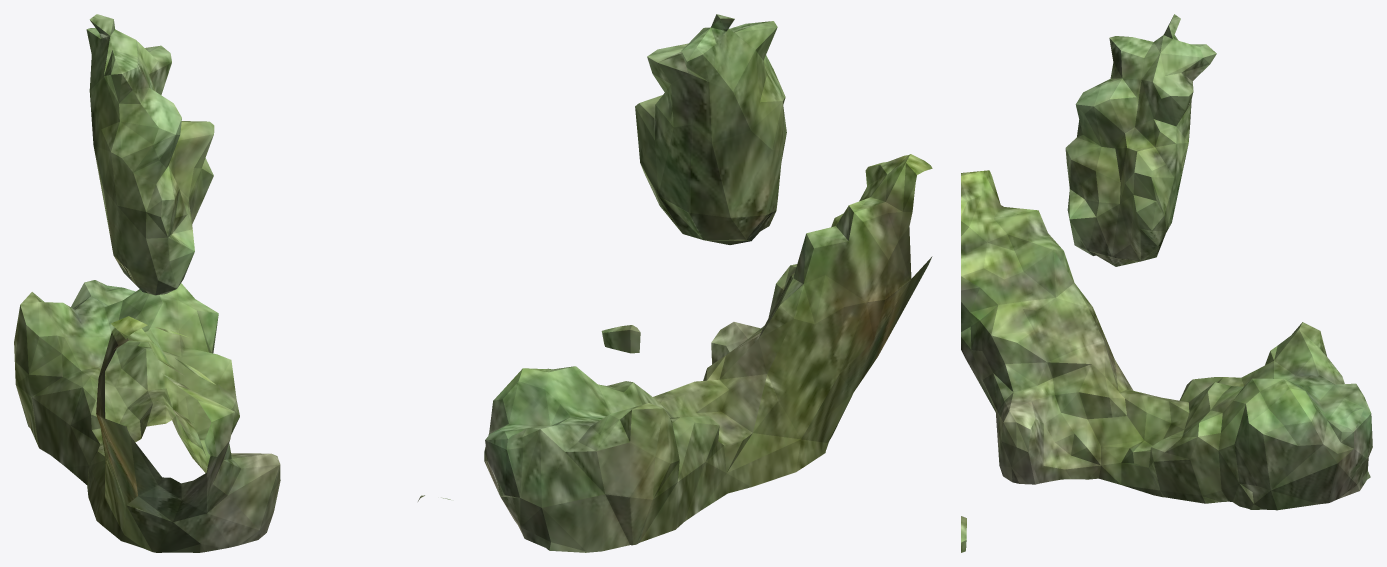
The picture shows the model from 3 angles, left to right: view 1: azimuth 30°, elevation 25°; view 2: azimuth 150°, elevation 25°; view 3: azimuth 270°, elevation 25°; orthographic projection. The views are drawn at different scales.
Bounding box in the file's own units: 1.69 × 2.3 × 2.
Materials: 2 (2 with a texture image).
